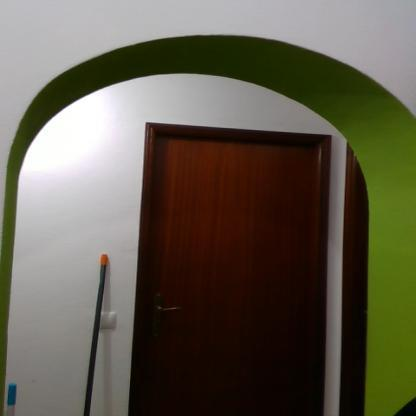door: (149, 128, 322, 415)
lever: (158, 306, 185, 315)
